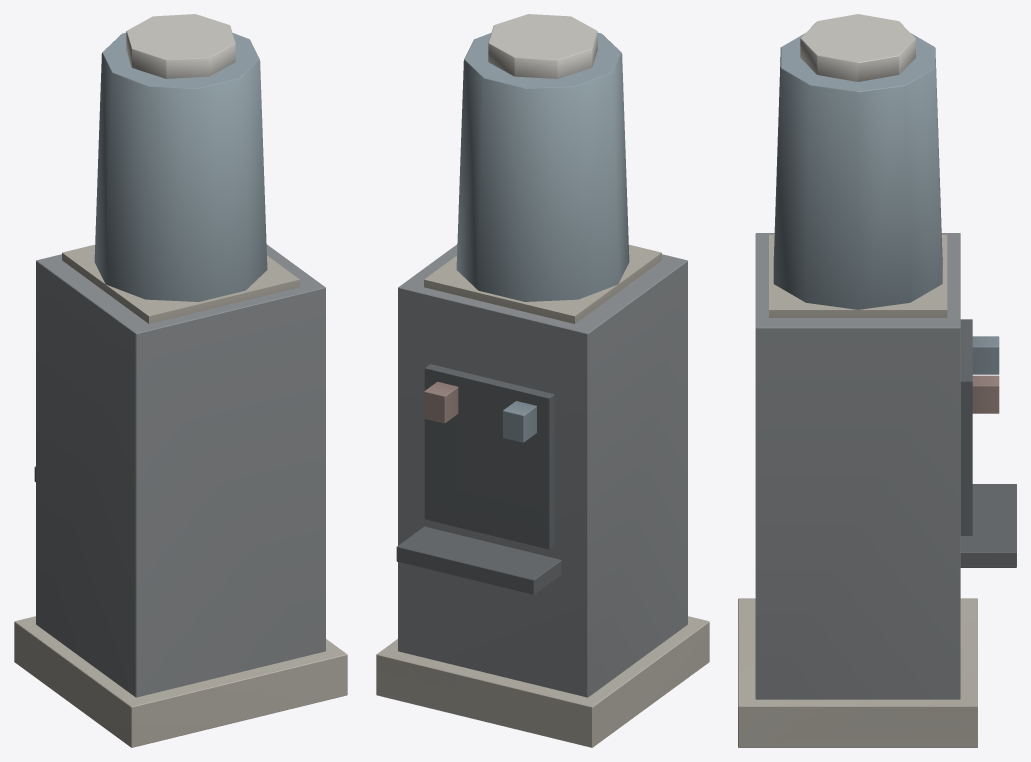
File: water_cooler_low.glb
The picture shows the model from 3 angles, left to right: view 1: azimuth 30°, elevation 25°; view 2: azimuth 150°, elevation 25°; view 3: azimuth 270°, elevation 25°; orthographic projection. The views are drawn at different scales.
Bounding box in the file's own units: 0.66 × 1.87 × 0.72.
